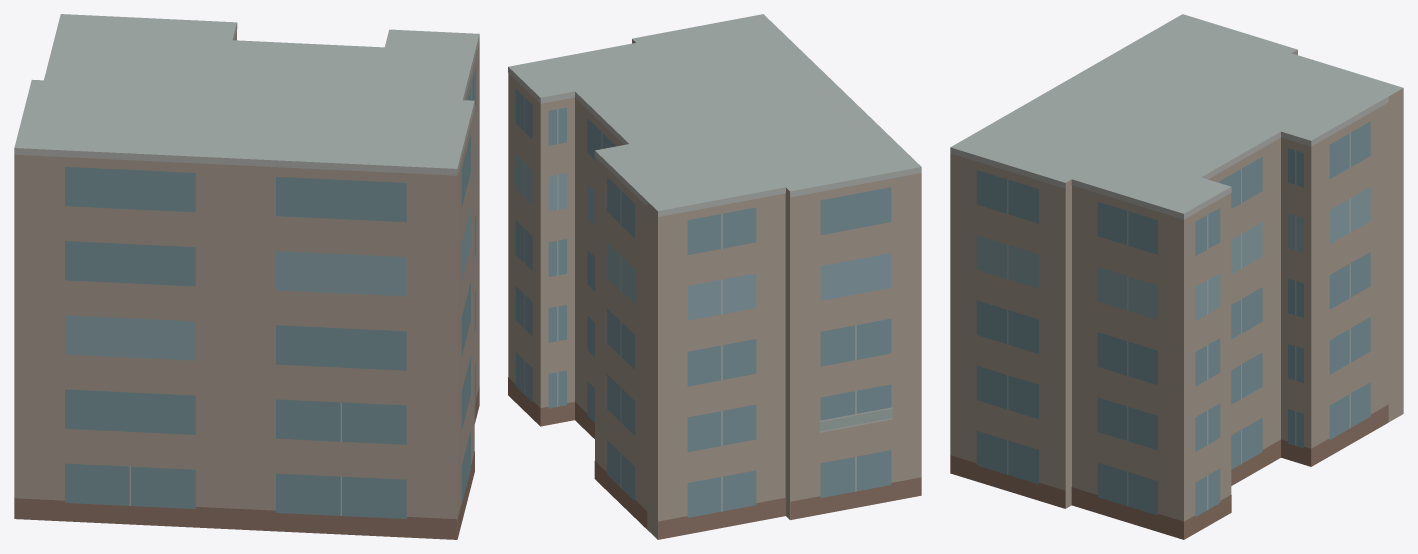
The model's file is survey-upis-32622097.glb.
The picture shows the model from 3 angles, left to right: view 1: azimuth 30°, elevation 25°; view 2: azimuth 150°, elevation 25°; view 3: azimuth 270°, elevation 25°; orthographic projection. The views are drawn at different scales.
Visible parts, largest first — view 1: survey-upis-32622097.tmp; view 2: survey-upis-32622097.tmp; view 3: survey-upis-32622097.tmp.
Boxes of the visible parts, x1=… form: survey-upis-32622097.tmp: x1=14, y1=14, x2=479, y2=539; survey-upis-32622097.tmp: x1=508, y1=14, x2=921, y2=539; survey-upis-32622097.tmp: x1=950, y1=14, x2=1403, y2=539.
Size of the model in its own units: 17.76 by 13.5 by 17.02.
